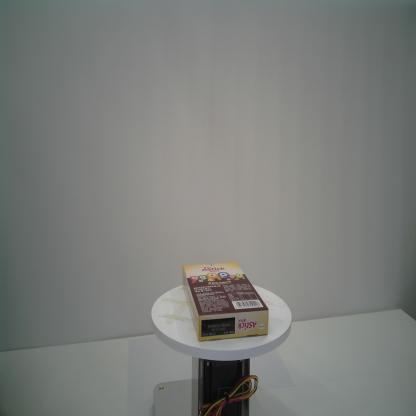Dessert: (181, 259, 270, 343)
